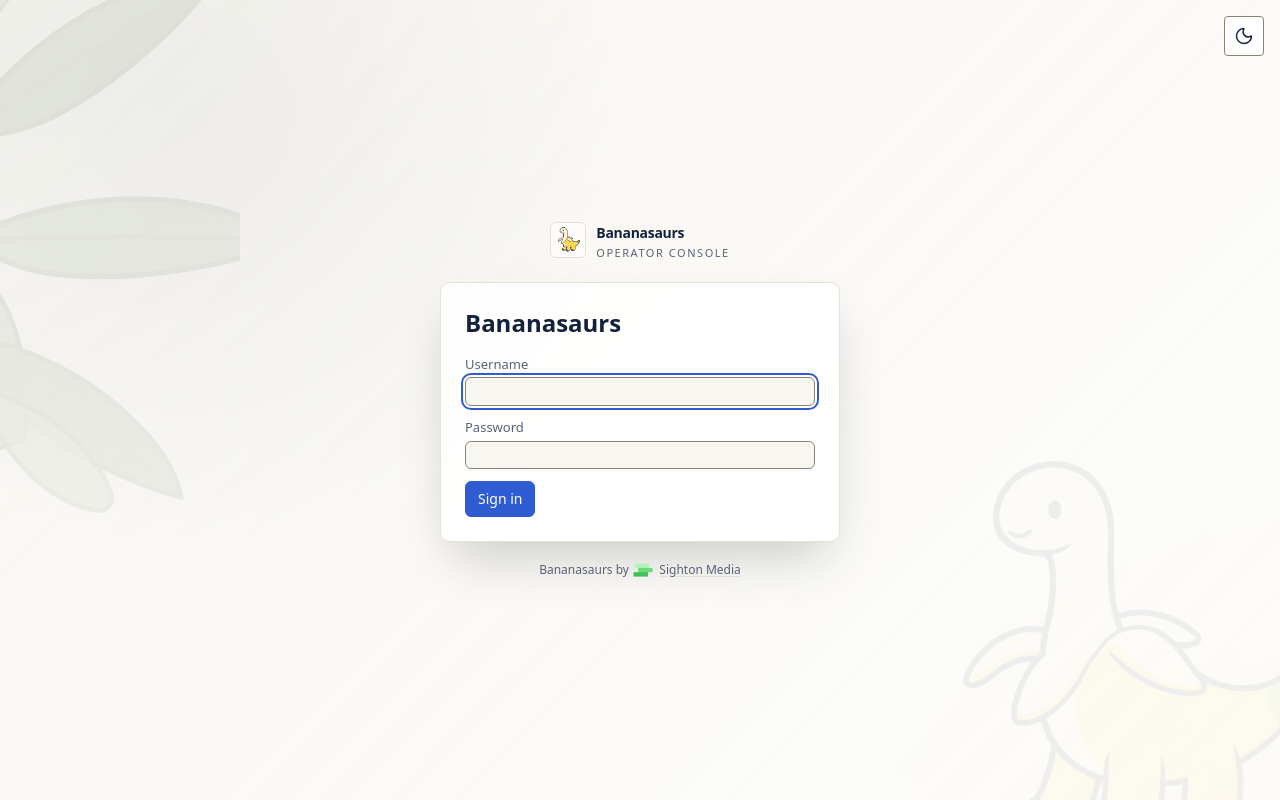
LoginForm › shows the lock-out message on locked-out
The width and height of the screenshot is (1280, 800).
Click the button "Sign in": (500, 499) top-left (465, 481), bottom-right (536, 517)
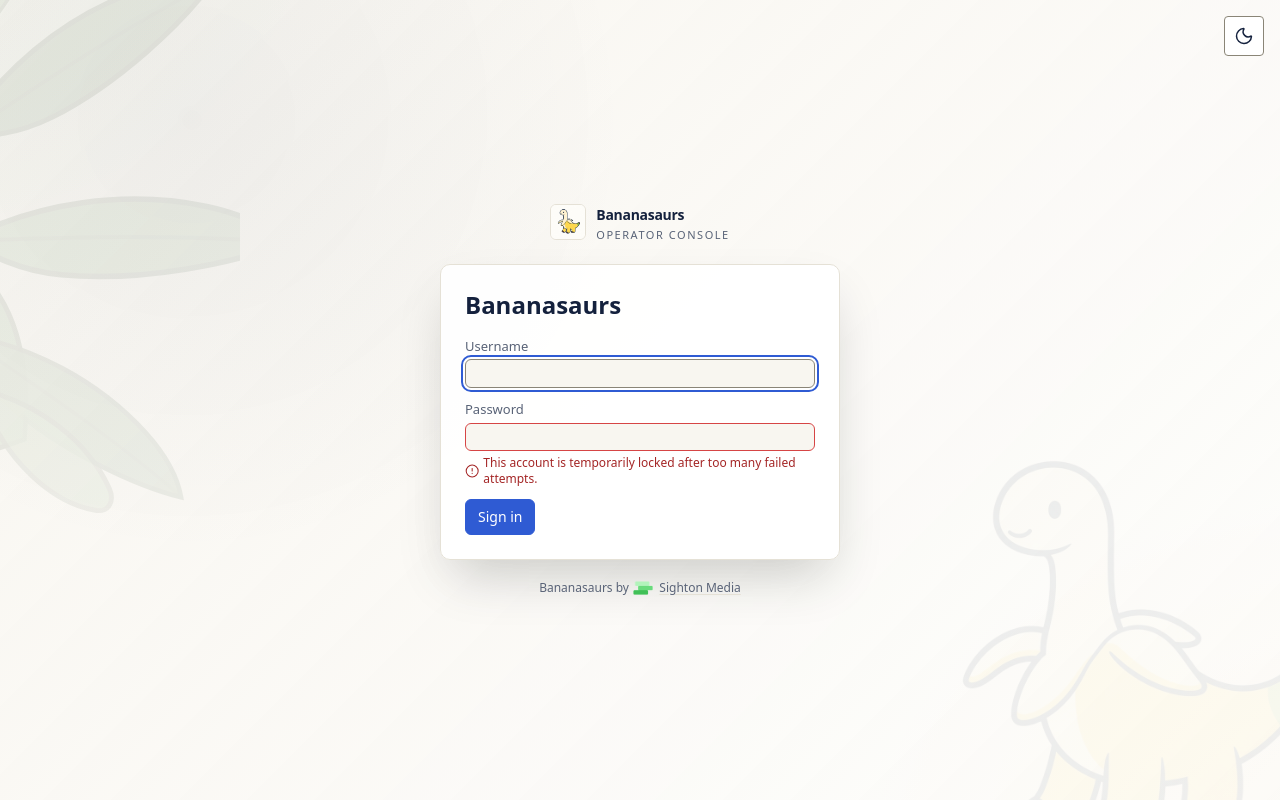
expect the message shows "temporarily locked": met, box top-left (483, 454), bottom-right (796, 487)
